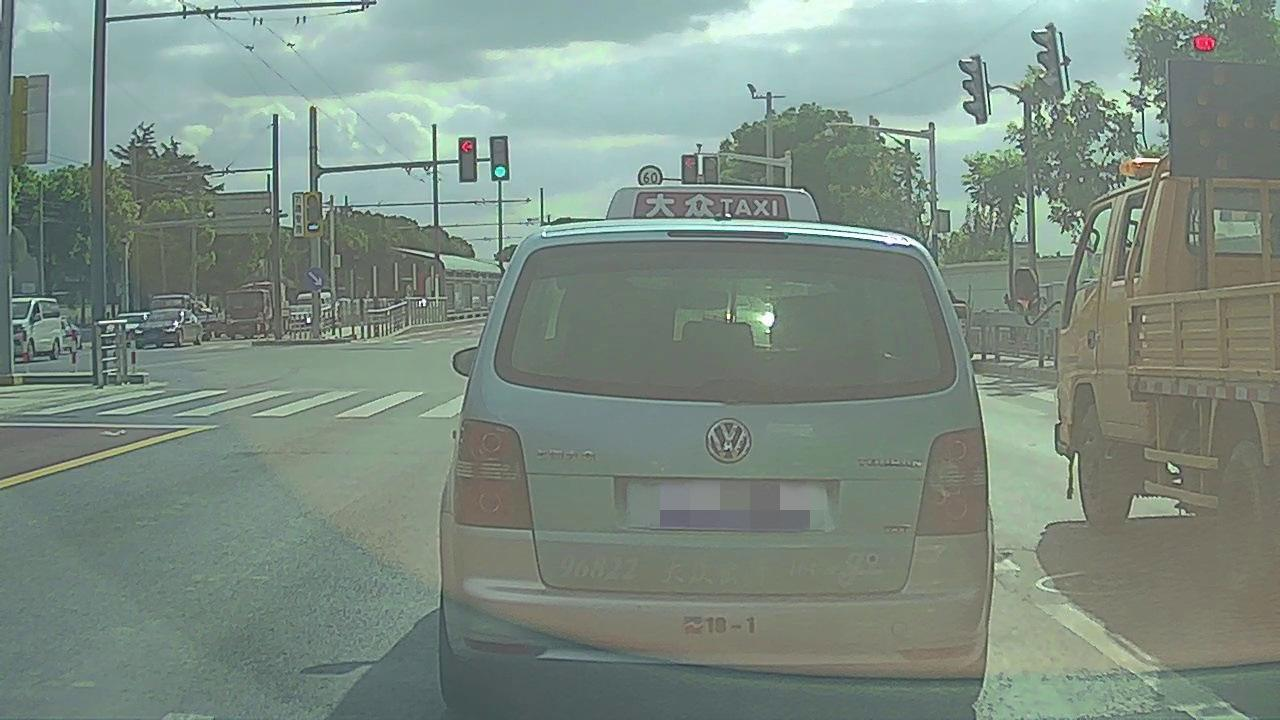traffic_light: (458, 136, 477, 182), (491, 137, 509, 181), (704, 156, 718, 184), (683, 156, 696, 184)
